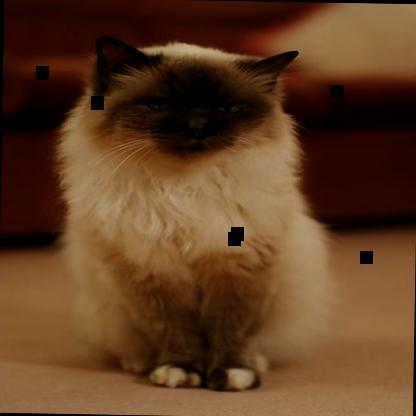cat: (46, 34, 334, 393)
